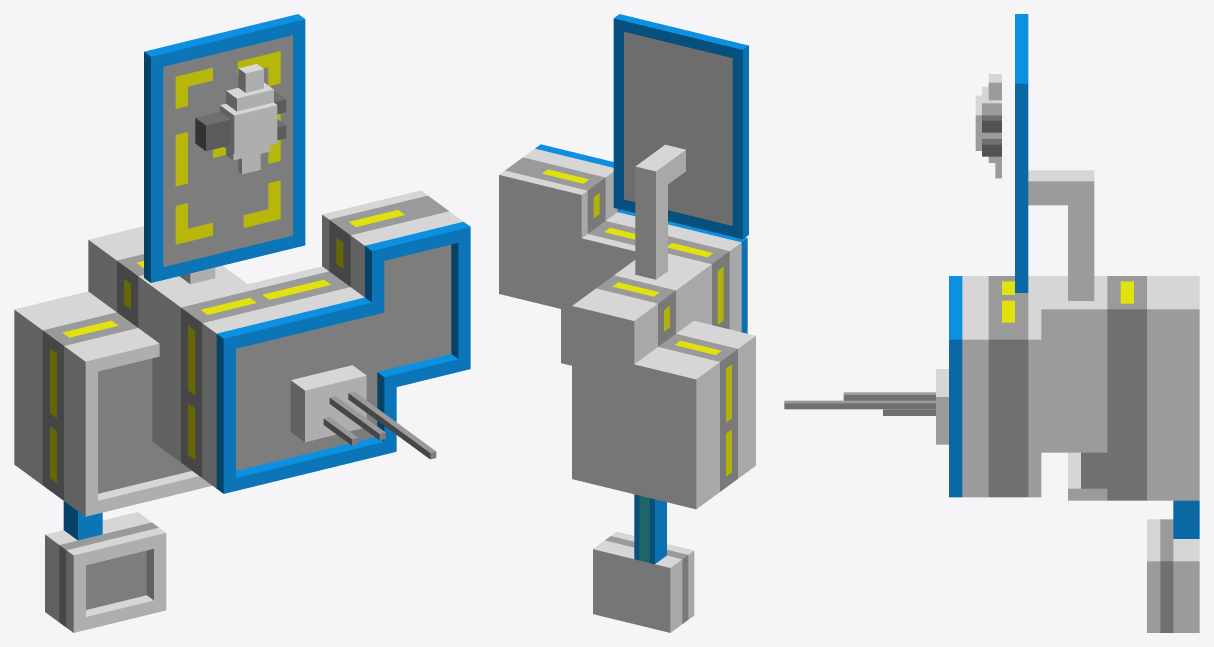
The model's file is cliff platform.obj.
The picture shows the model from 3 angles, left to right: view 1: azimuth 30°, elevation 25°; view 2: azimuth 150°, elevation 25°; view 3: azimuth 270°, elevation 25°; orthographic projection. The views are drawn at different scales.
Size of the model in its own units: 52 by 97 by 63.
